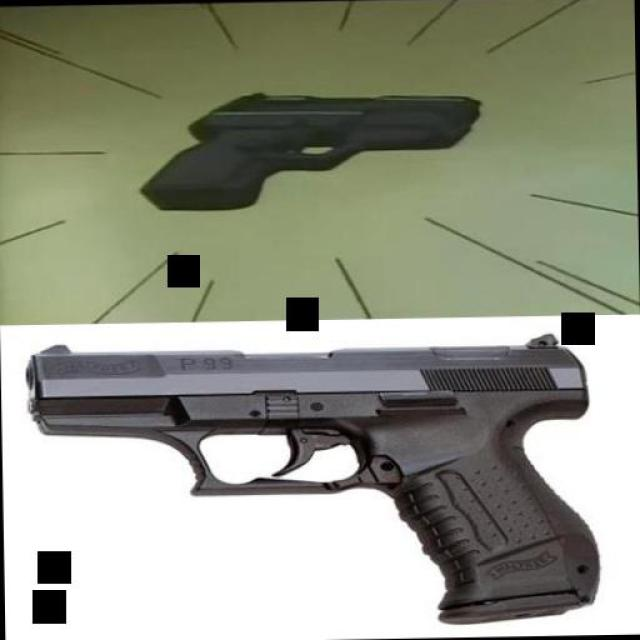gun: (24, 333, 602, 632), (136, 85, 484, 213)
